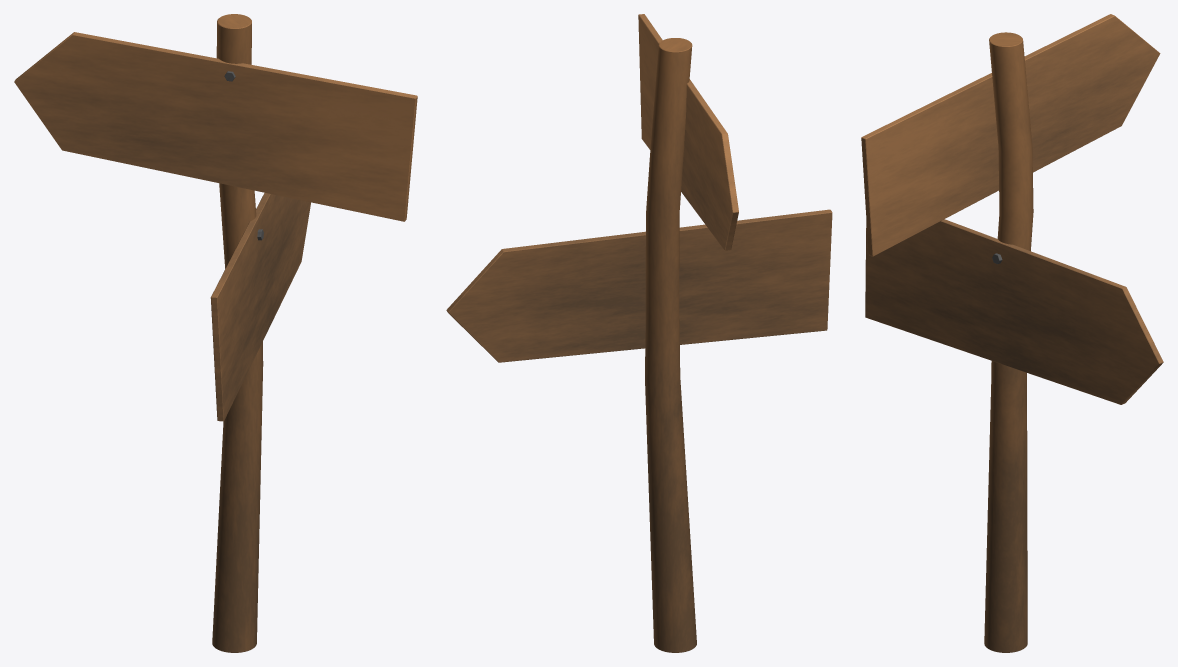
Rendered from miiru-signboard-06.glb.
The picture shows the model from 3 angles, left to right: view 1: azimuth 30°, elevation 25°; view 2: azimuth 150°, elevation 25°; view 3: azimuth 270°, elevation 25°; orthographic projection. The views are drawn at different scales.
Parts seen in each view (by area): view 1: Signoard_06.001; view 2: Signoard_06.001; view 3: Signoard_06.001.
Part boxes in pixels (x1,y1,x2,y2): Signoard_06.001: [14, 14, 417, 652]; Signoard_06.001: [446, 14, 832, 652]; Signoard_06.001: [861, 14, 1163, 652].
Size of the model in its own units: 0.9214 by 1.82 by 0.8229.
Materials: 1 (1 with a texture image).
